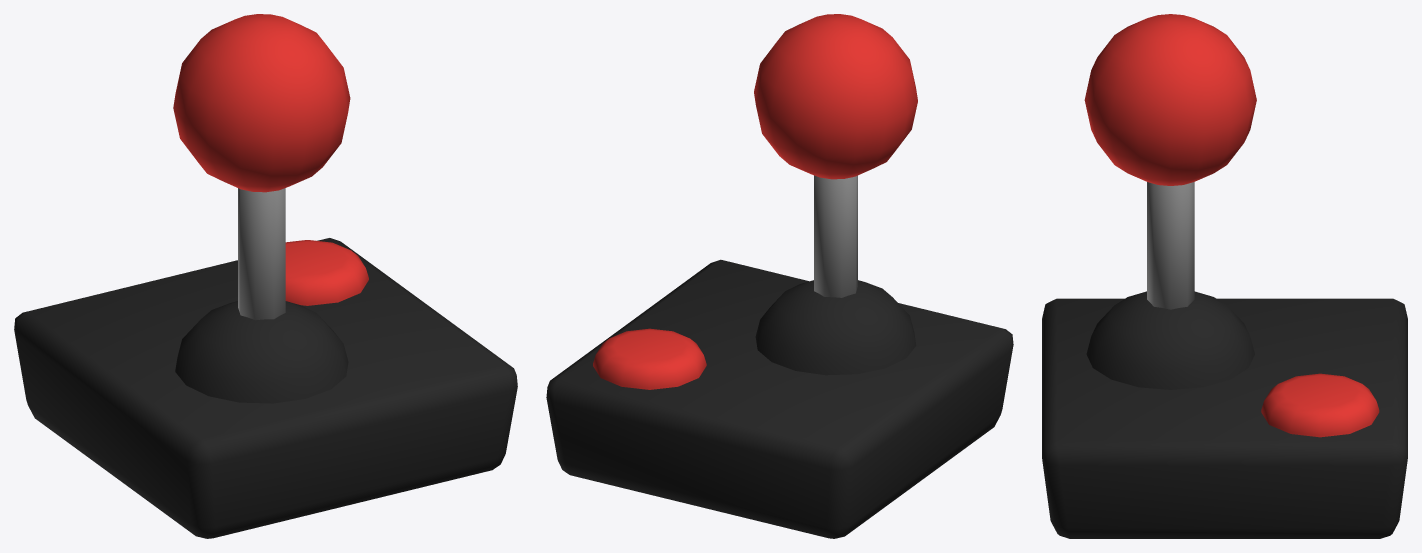
The model's file is Joystick.fbx.
3 views of the same model, side by side, from view 1: azimuth 30°, elevation 25°; view 2: azimuth 150°, elevation 25°; view 3: azimuth 270°, elevation 25° (orthographic). The views are drawn at different scales.
Visible parts, largest first — view 1: Cube; view 2: Cube; view 3: Cube.
Boxes of the visible parts, left/top/right/bottom form: Cube: left=14, top=14, right=517, bottom=538; Cube: left=546, top=14, right=1013, bottom=538; Cube: left=1042, top=14, right=1407, bottom=538.
Size of the model in its own units: 191 by 251 by 191.
